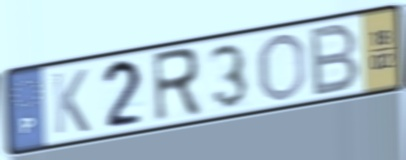2: (99, 56, 149, 134)
3: (207, 40, 253, 110)
B: (308, 20, 363, 100)
K: (50, 66, 93, 137)
O: (256, 30, 309, 103)
R: (149, 44, 205, 127)
